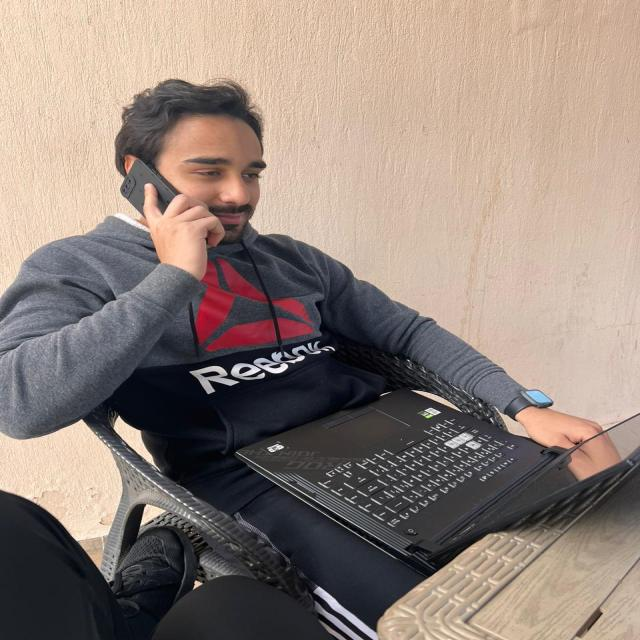phone: (119, 159, 183, 222)
